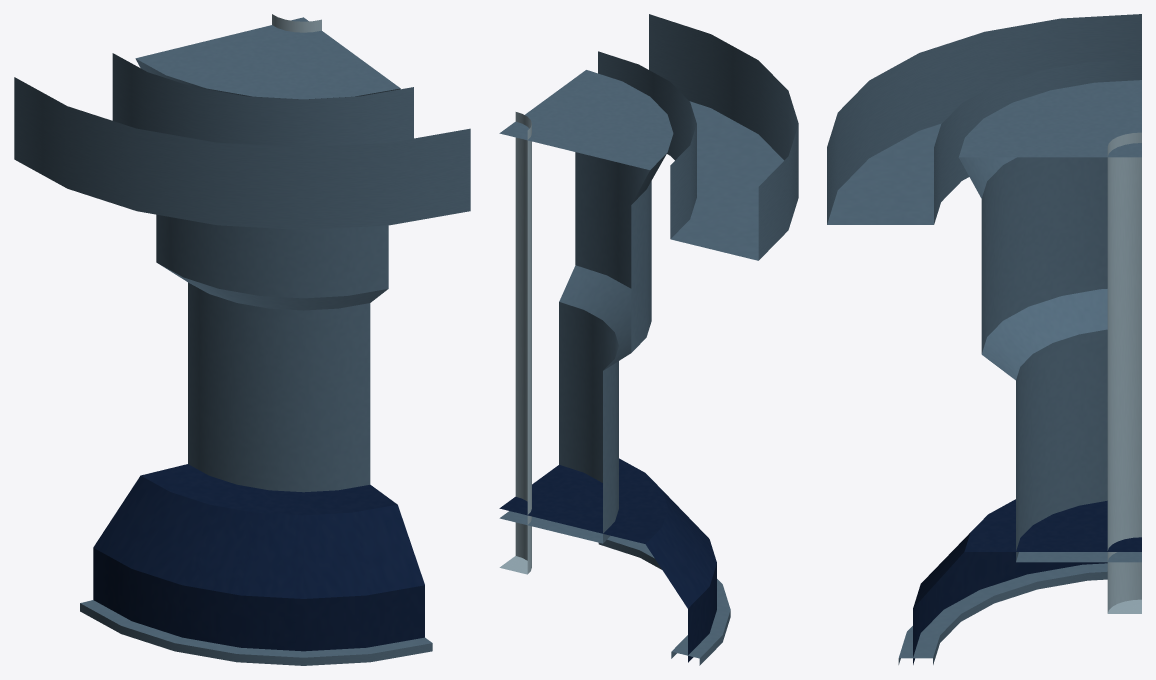
File: cell_10.obj
3 views of the same model, side by side, from view 1: azimuth 30°, elevation 25°; view 2: azimuth 150°, elevation 25°; view 3: azimuth 270°, elevation 25° (orthographic). The views are drawn at different scales.
Parts seen in each view (by area): view 1: cell_10; view 2: cell_10; view 3: cell_10.
Boxes of the visible parts, x1,y1,x2,y2 form: cell_10: [14, 14, 470, 665]; cell_10: [499, 14, 798, 665]; cell_10: [827, 14, 1141, 664].
Size of the model in its own units: 0.55 by 1 by 0.55.
